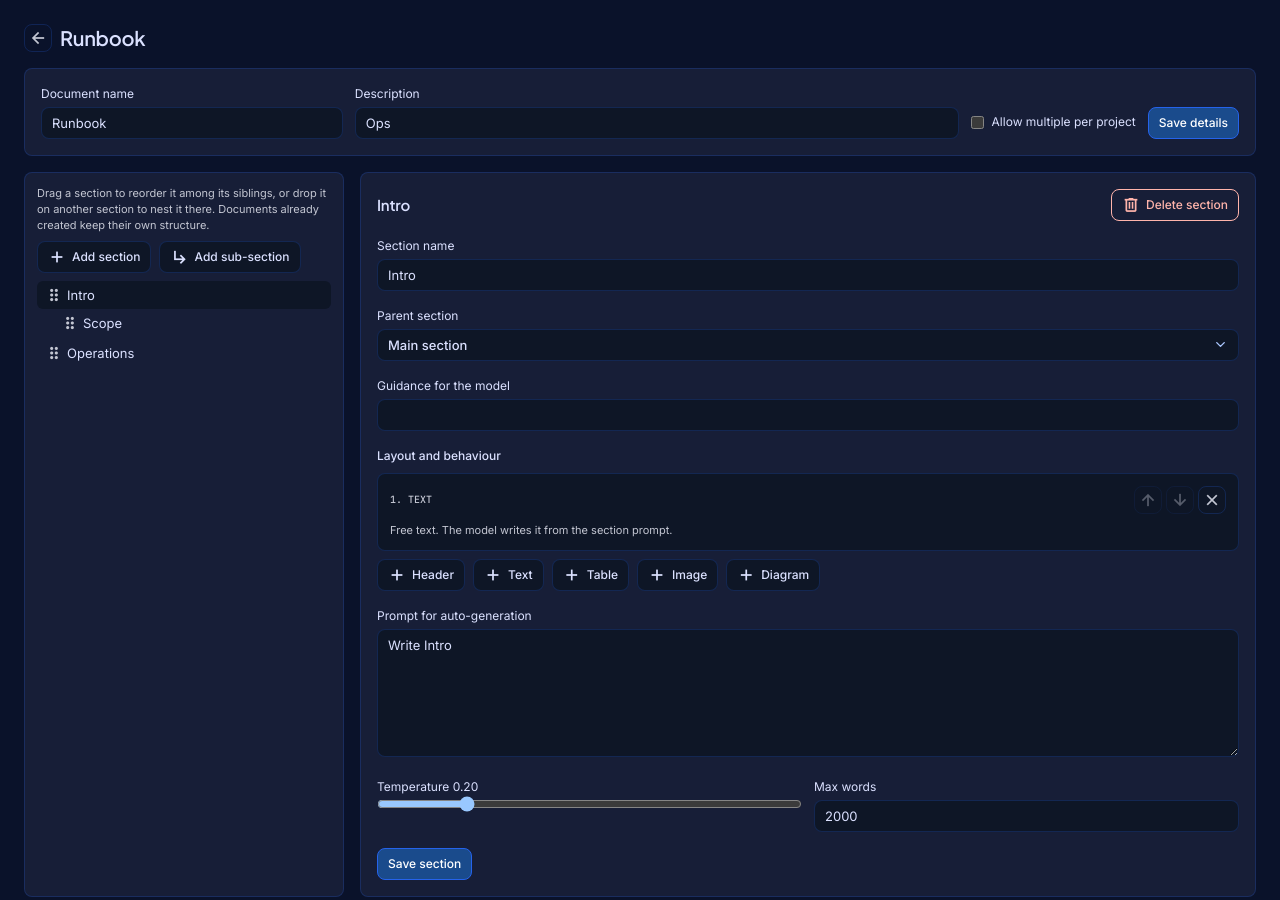
Test: deleting a section asks for confirmation
Click the button "Delete section": (1175, 205) [1111,189,1239,221]
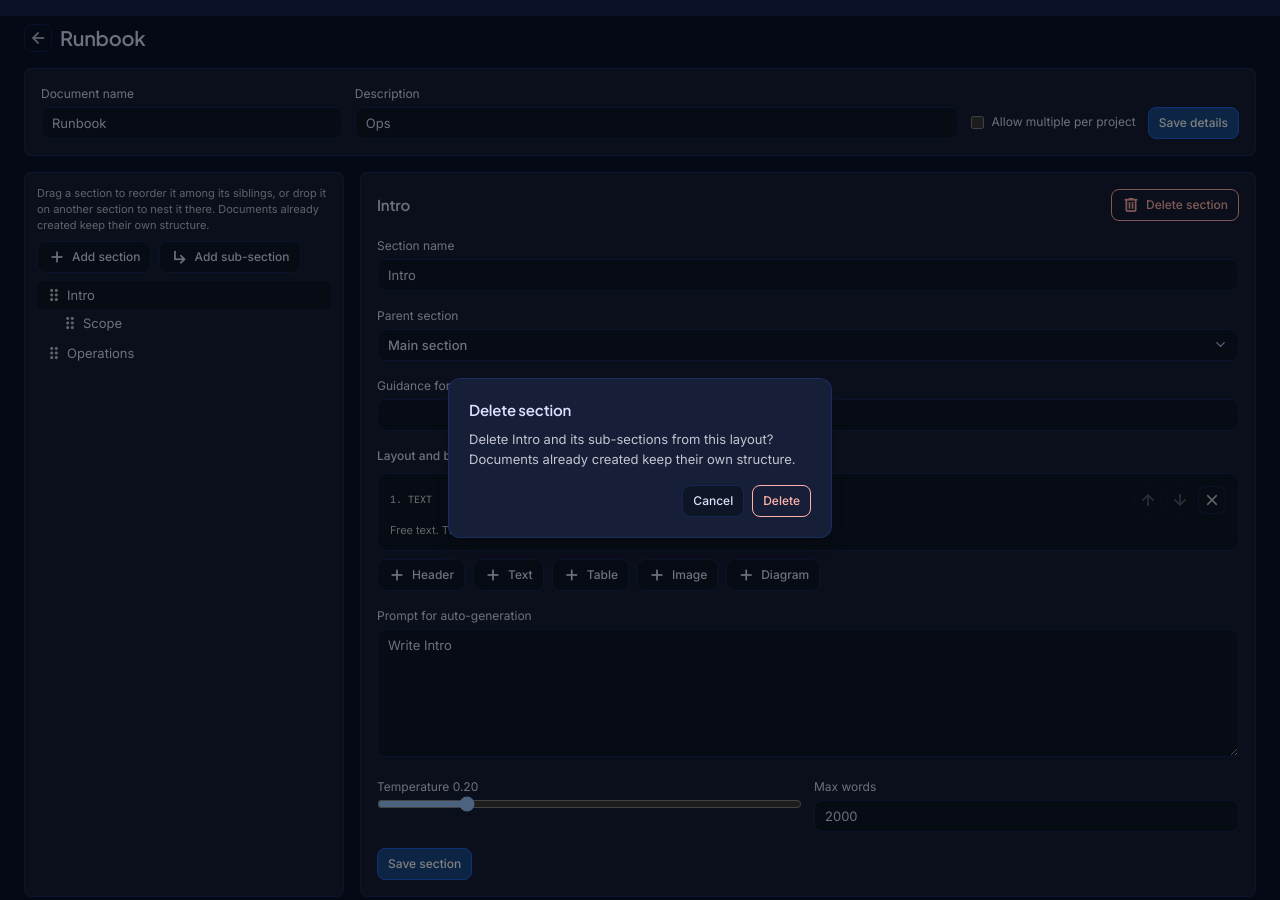
Check: the text "Documents already created keep their own structure" is shown, box [469,431,796,467]
Click the button "Delete": (782, 501) [752,485,811,517]
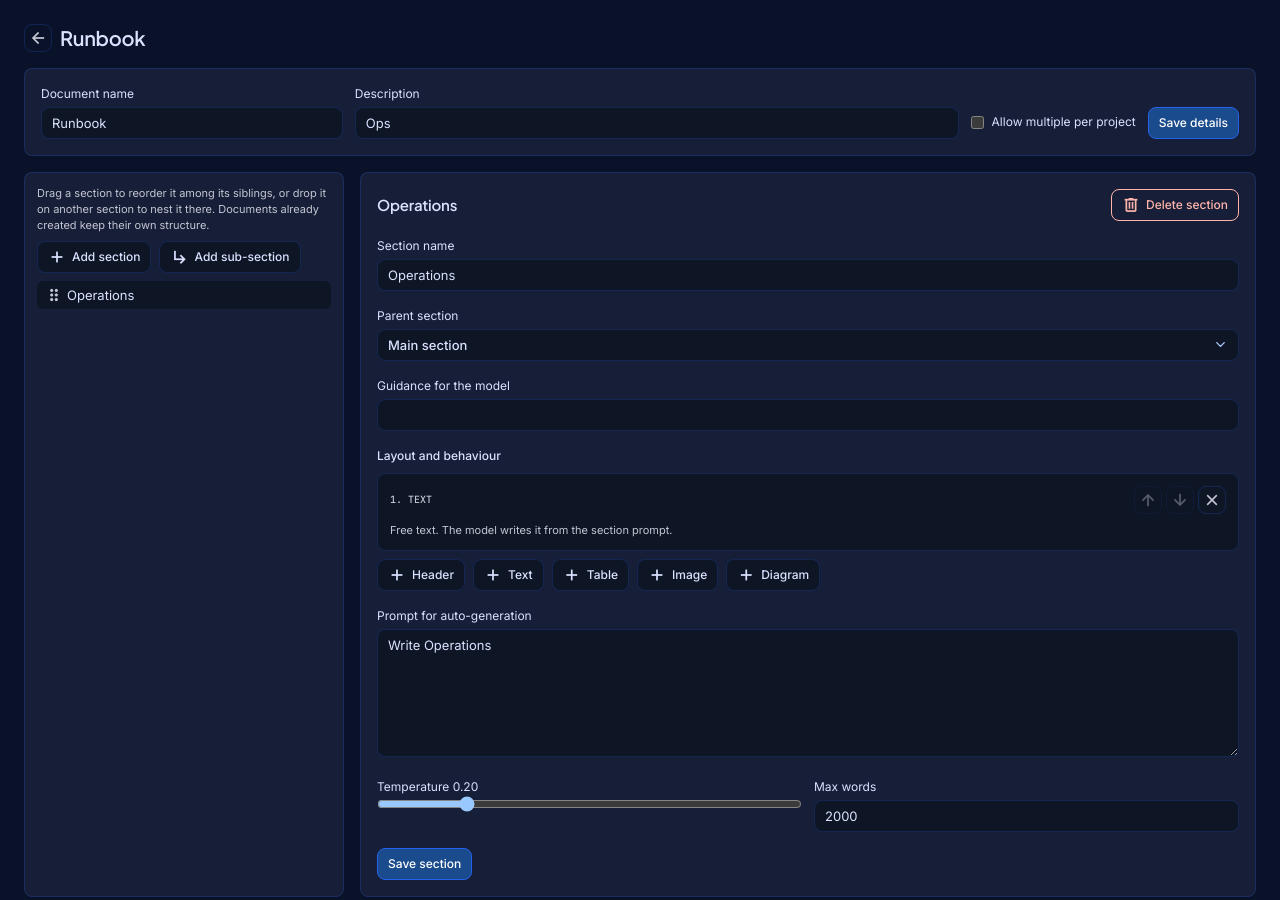
Check: the button "Scope" is gone
